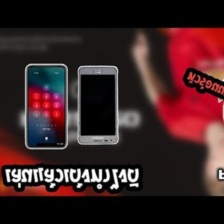phone: (23, 61, 68, 151), (75, 63, 120, 146)
